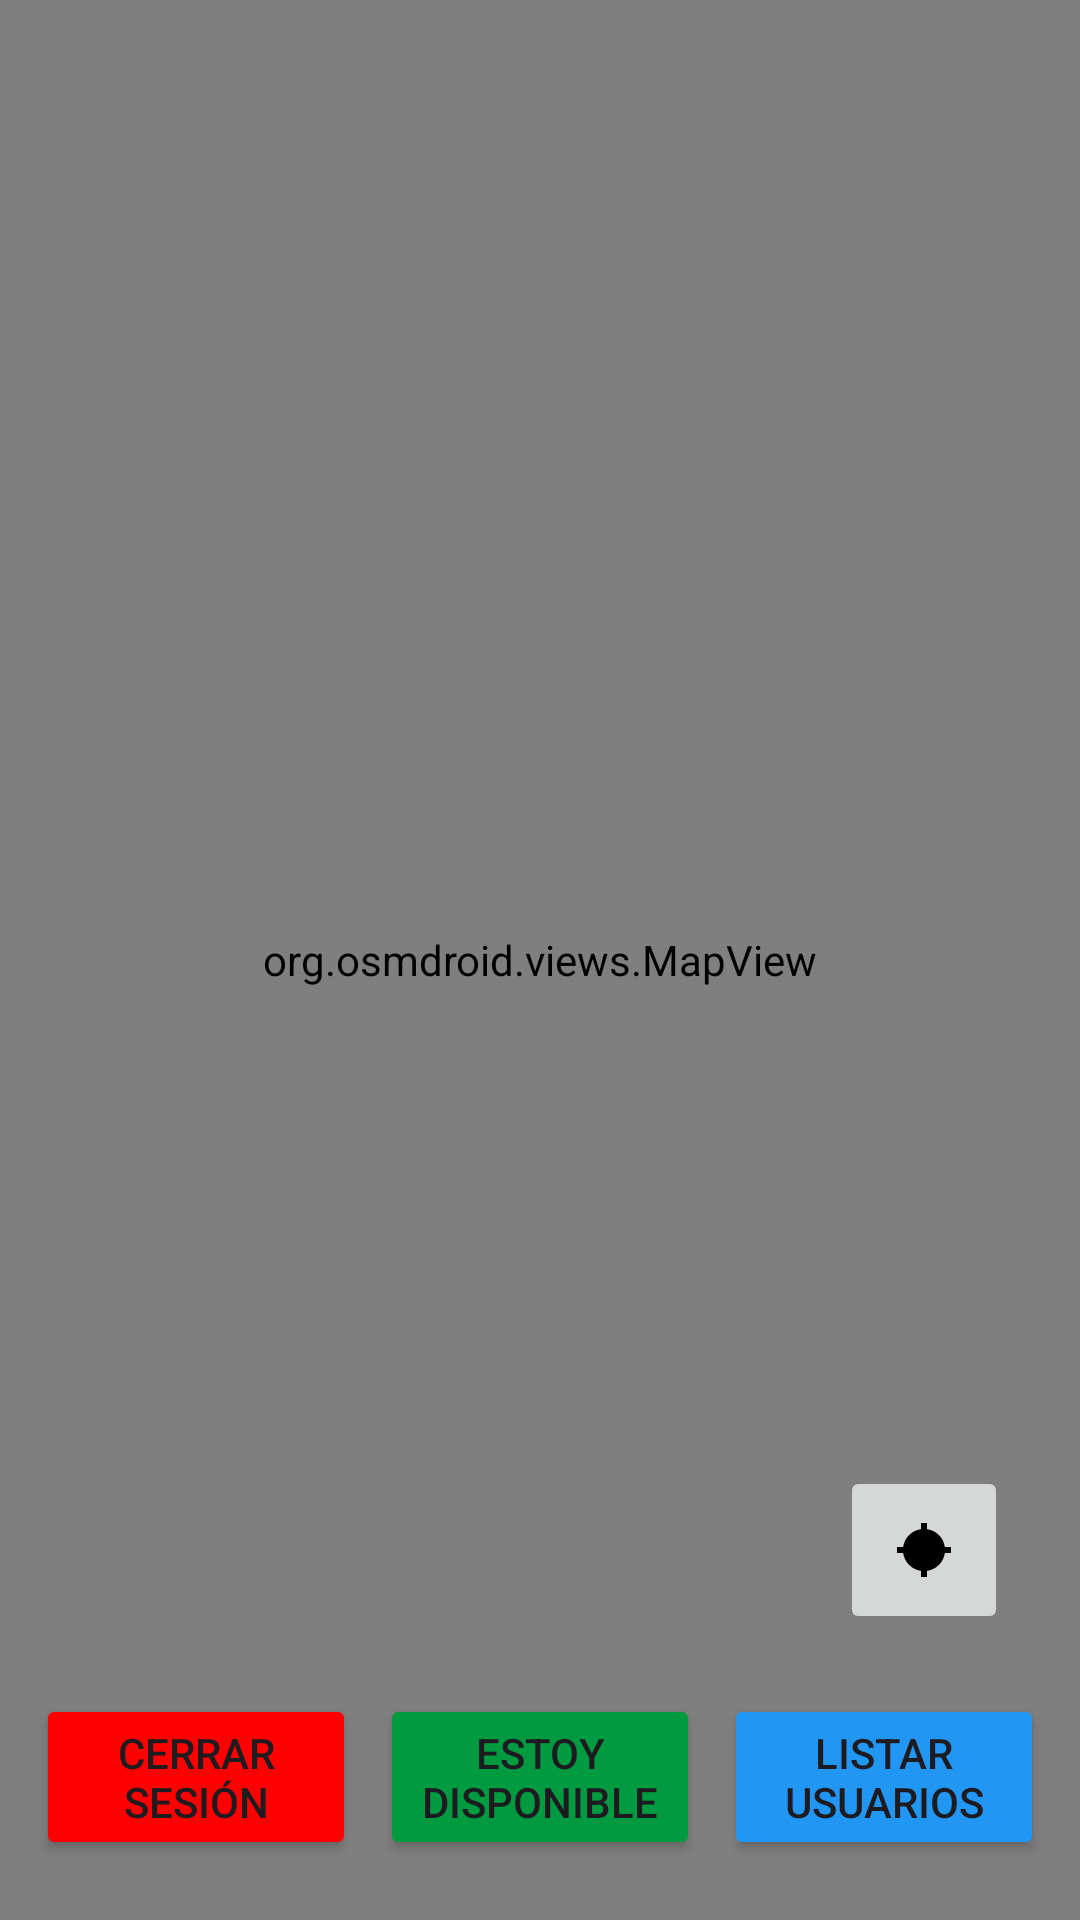

Icon bounding boxes for this 1080w x 1920h phone screenshot, format (x1, y1, x2, y2):
Mi ubicación: (852, 1484, 996, 1616)
